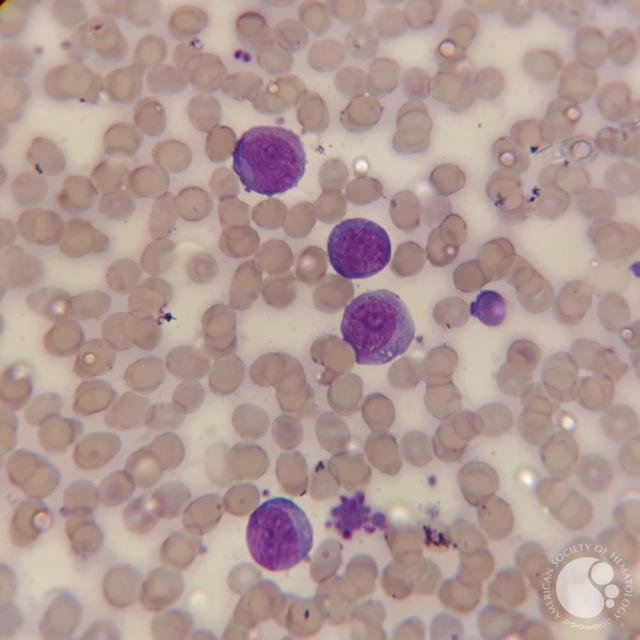ALL Positive Cell: (235, 124, 306, 202), (341, 286, 414, 361), (248, 494, 308, 566), (331, 212, 394, 274), (331, 488, 384, 547), (465, 282, 504, 328)
